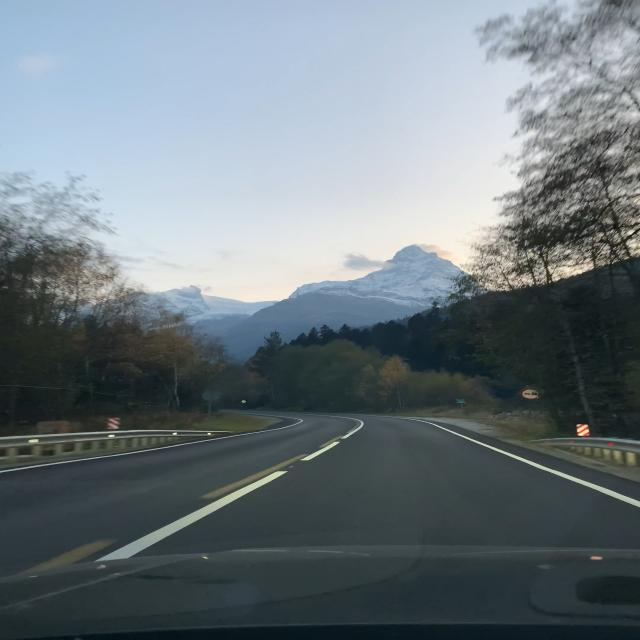asphalt: (0, 414, 640, 577)
grass: (404, 409, 549, 442), (120, 410, 280, 433), (16, 423, 98, 435)
